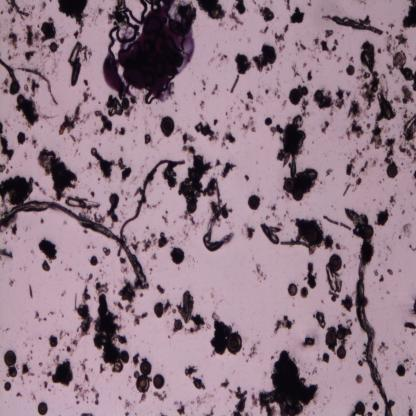Air bubble: (104, 17, 137, 61), (122, 1, 149, 25), (143, 90, 154, 105)
Background material: (258, 345, 319, 415), (95, 292, 128, 376), (265, 114, 307, 169), (38, 148, 78, 200), (369, 74, 392, 150), (186, 162, 223, 208), (342, 146, 371, 197), (358, 41, 379, 109), (75, 355, 100, 406), (0, 172, 34, 206), (73, 289, 95, 341), (210, 311, 234, 357), (292, 155, 319, 195), (66, 41, 88, 88), (58, 0, 89, 33), (380, 20, 408, 54), (45, 354, 74, 386), (90, 144, 115, 180), (397, 113, 416, 160), (280, 218, 310, 247), (394, 65, 416, 104), (58, 102, 84, 135), (37, 235, 58, 275), (128, 233, 172, 251), (252, 42, 278, 72), (347, 100, 365, 141), (233, 54, 250, 97), (269, 314, 297, 339), (193, 118, 221, 142), (197, 0, 226, 23), (318, 89, 347, 112), (324, 269, 344, 301), (66, 193, 101, 211), (124, 302, 149, 327), (0, 122, 15, 163), (230, 386, 250, 416), (183, 363, 205, 390), (18, 98, 40, 125), (332, 319, 354, 344), (59, 328, 77, 358), (6, 1, 29, 24), (187, 313, 211, 335), (38, 16, 58, 42), (321, 28, 340, 55), (260, 222, 281, 246), (324, 214, 352, 232), (121, 278, 140, 304), (296, 36, 322, 55), (94, 109, 113, 134), (260, 198, 282, 219), (190, 389, 214, 408), (274, 22, 289, 51), (268, 83, 286, 107), (374, 206, 391, 231), (265, 115, 285, 136), (163, 163, 178, 191), (402, 0, 416, 28), (19, 360, 34, 386), (118, 392, 134, 416), (108, 94, 124, 118), (221, 162, 240, 181), (289, 6, 306, 27), (383, 134, 395, 162), (181, 132, 195, 156), (238, 116, 256, 134), (398, 222, 412, 244), (228, 12, 245, 29), (252, 265, 267, 284), (314, 307, 326, 330), (306, 265, 317, 290), (24, 24, 35, 49), (258, 6, 274, 23), (241, 222, 256, 240), (118, 160, 129, 184), (322, 234, 336, 252), (76, 271, 97, 283), (8, 30, 20, 50), (400, 318, 416, 333), (29, 78, 40, 99), (302, 334, 318, 348), (245, 92, 256, 112), (0, 246, 15, 260), (34, 30, 44, 51), (49, 330, 60, 349), (342, 294, 353, 312), (24, 49, 38, 63), (153, 390, 168, 403), (94, 282, 110, 294), (234, 0, 246, 15), (119, 257, 129, 275), (246, 344, 258, 359), (299, 98, 309, 116), (222, 133, 234, 148), (378, 343, 390, 358), (108, 207, 119, 222), (17, 130, 27, 146), (34, 311, 47, 323), (319, 120, 330, 134), (388, 193, 399, 207), (143, 132, 153, 147), (30, 133, 39, 149), (9, 274, 20, 287), (132, 353, 142, 367), (114, 126, 126, 137), (174, 401, 184, 414), (164, 300, 172, 316), (10, 222, 18, 238), (250, 392, 258, 408), (409, 298, 416, 316), (220, 378, 230, 390), (89, 255, 99, 267), (372, 399, 381, 412), (212, 82, 220, 96), (84, 93, 96, 102), (200, 78, 207, 93), (96, 5, 104, 18), (156, 284, 166, 294), (102, 246, 112, 256), (40, 0, 47, 14), (323, 350, 330, 363), (28, 285, 34, 300), (212, 116, 219, 128), (80, 410, 94, 416), (199, 99, 206, 111), (260, 25, 270, 33), (60, 286, 66, 298), (408, 404, 414, 416), (42, 378, 48, 390), (0, 164, 8, 173), (139, 394, 146, 404), (73, 29, 80, 39), (356, 374, 362, 385), (307, 68, 312, 81), (15, 391, 23, 399), (263, 88, 270, 96), (23, 84, 30, 92), (378, 275, 384, 284), (244, 174, 250, 182), (374, 269, 379, 275), (386, 270, 392, 273)
Cellulose filter fibre: (0, 202, 146, 287), (342, 205, 393, 415), (17, 66, 59, 104), (202, 206, 234, 251), (330, 16, 384, 36), (0, 60, 17, 82)
Diatom: (225, 332, 243, 354), (305, 224, 323, 245), (159, 115, 174, 136), (182, 292, 192, 323), (170, 247, 185, 266), (135, 376, 150, 394), (386, 162, 398, 180), (324, 332, 338, 347), (152, 374, 166, 389), (290, 87, 301, 106), (329, 253, 340, 272), (247, 194, 260, 210), (4, 349, 16, 366), (139, 360, 151, 376), (186, 166, 198, 182), (362, 224, 374, 240), (282, 178, 295, 192), (354, 400, 366, 415), (37, 402, 49, 416), (153, 301, 164, 316), (185, 201, 198, 213), (292, 186, 303, 200), (395, 363, 405, 378), (336, 345, 346, 360), (120, 350, 130, 365), (193, 155, 203, 169), (287, 282, 297, 296), (10, 82, 20, 96), (109, 194, 120, 206), (346, 64, 356, 77), (48, 41, 58, 54), (395, 50, 404, 64), (300, 284, 308, 298), (7, 367, 17, 378), (314, 89, 323, 101), (121, 97, 130, 109), (174, 318, 183, 329), (4, 381, 12, 392), (221, 209, 229, 220), (301, 84, 308, 96), (18, 94, 24, 106)
Natural material: (118, 159, 186, 258)
Pen: (102, 1, 198, 95)
